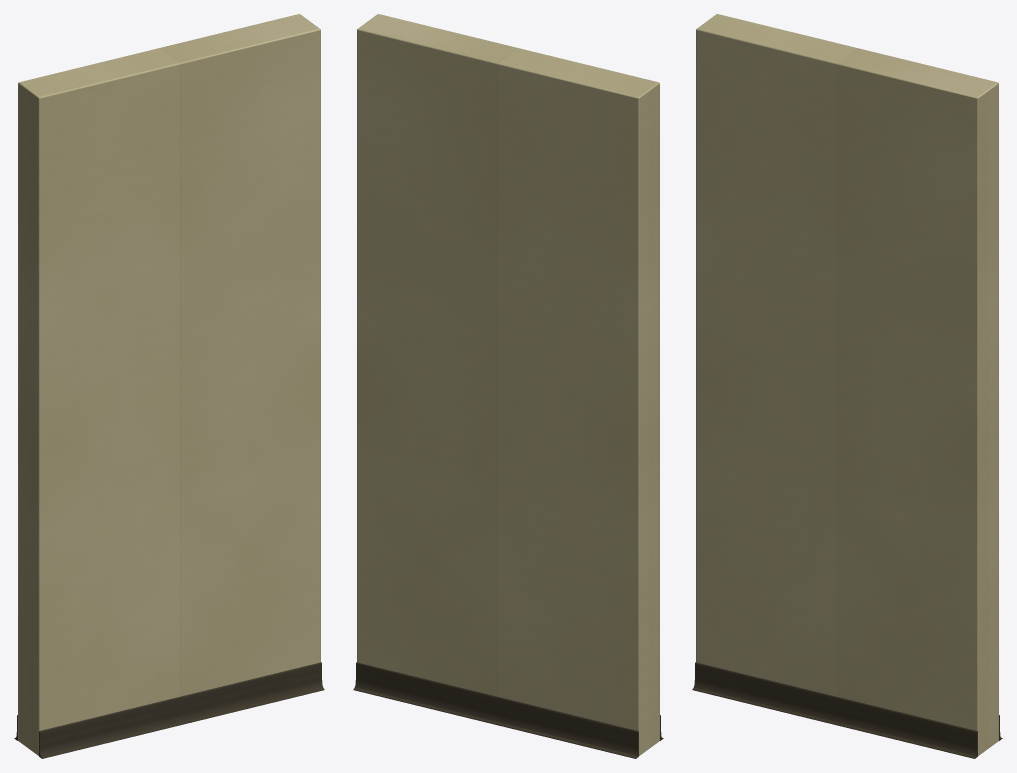
The model's file is wall_122.gltf.
3 renders of one model, left to right at view 1: azimuth 30°, elevation 25°; view 2: azimuth 150°, elevation 25°; view 3: azimuth 330°, elevation 25°, orthographic.
Visible parts, largest first — view 1: wall_122; view 2: wall_122; view 3: wall_122.
Part boxes in pixels (x1,y1,x2,y2): wall_122: (14,14,324,758); wall_122: (353,14,663,758); wall_122: (692,14,1002,758).
Size of the model in its own units: 1.22 by 2.72 by 0.208.
Materials: 2 (2 with a texture image).
